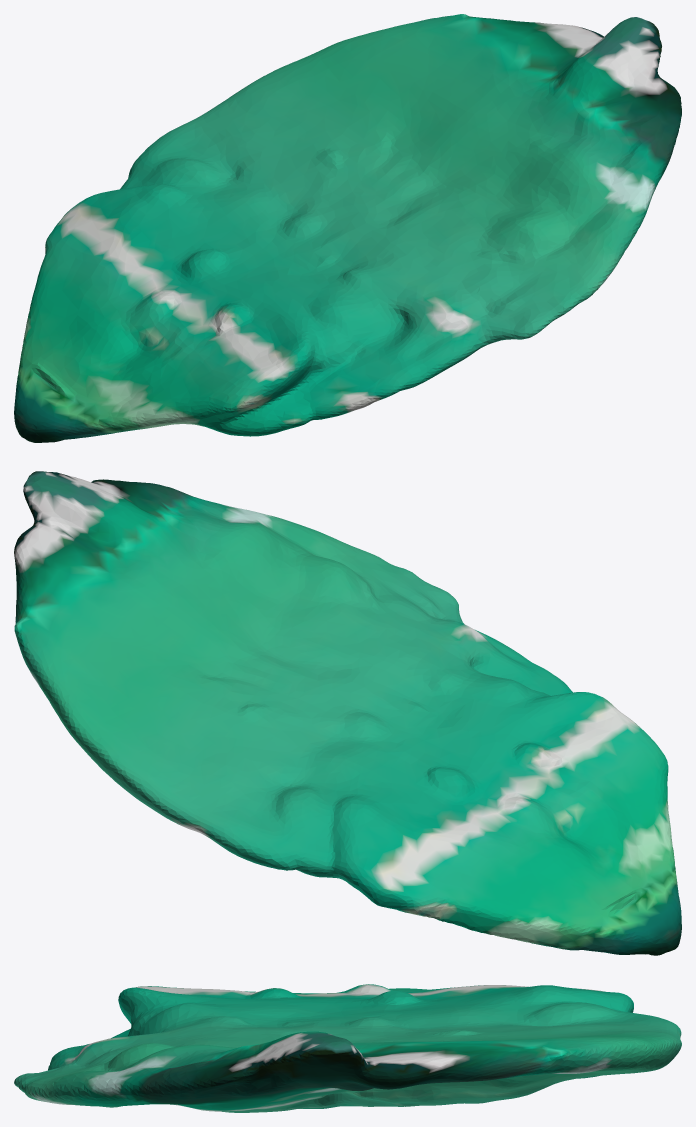
Rendered from pretty_emerald.glb.
3 renders of one model, top to bottom at view 1: azimuth 30°, elevation 25°; view 2: azimuth 150°, elevation 25°; view 3: azimuth 270°, elevation 25°, orthographic. The views are drawn at different scales.
Parts seen in each view (by area): view 1: geometry_0; view 2: geometry_0; view 3: geometry_0.
Boxes of the visible parts, <box> form: geometry_0: <box>14,14,681,442</box>; geometry_0: <box>14,471,681,955</box>; geometry_0: <box>14,984,681,1112</box>.
Size of the model in its own units: 0.5938 by 0.2595 by 0.4841.
